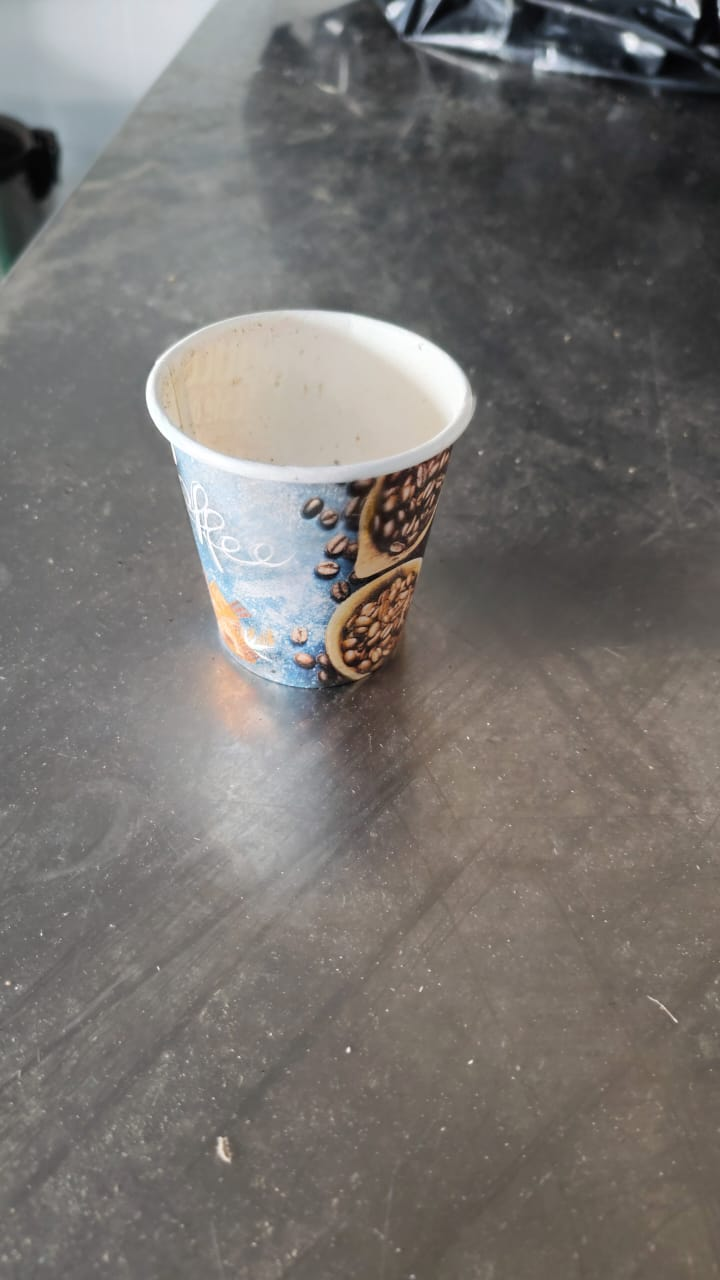Carton: (139, 303, 477, 691)
